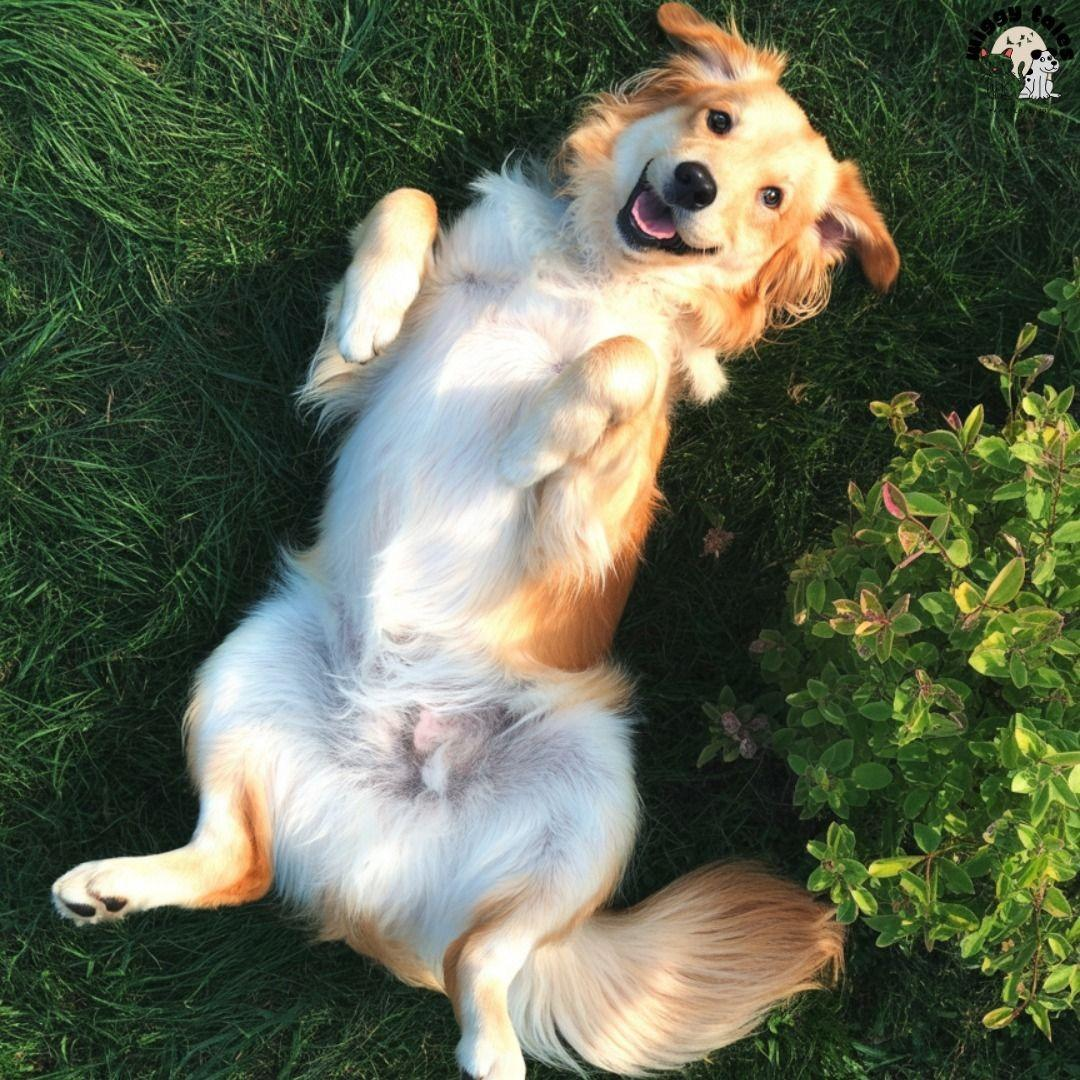adult_dog: (50, 3, 901, 1080)
